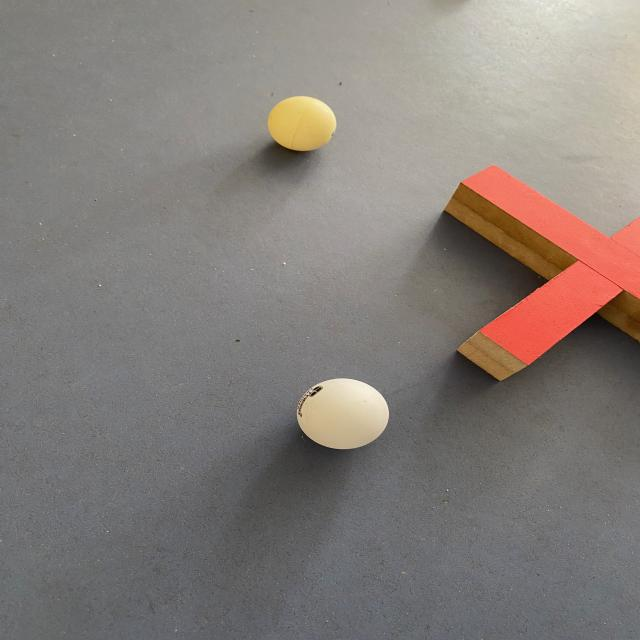obstacle: (446, 158, 640, 385)
white-golf-balls: (292, 373, 397, 455), (260, 89, 340, 160)
